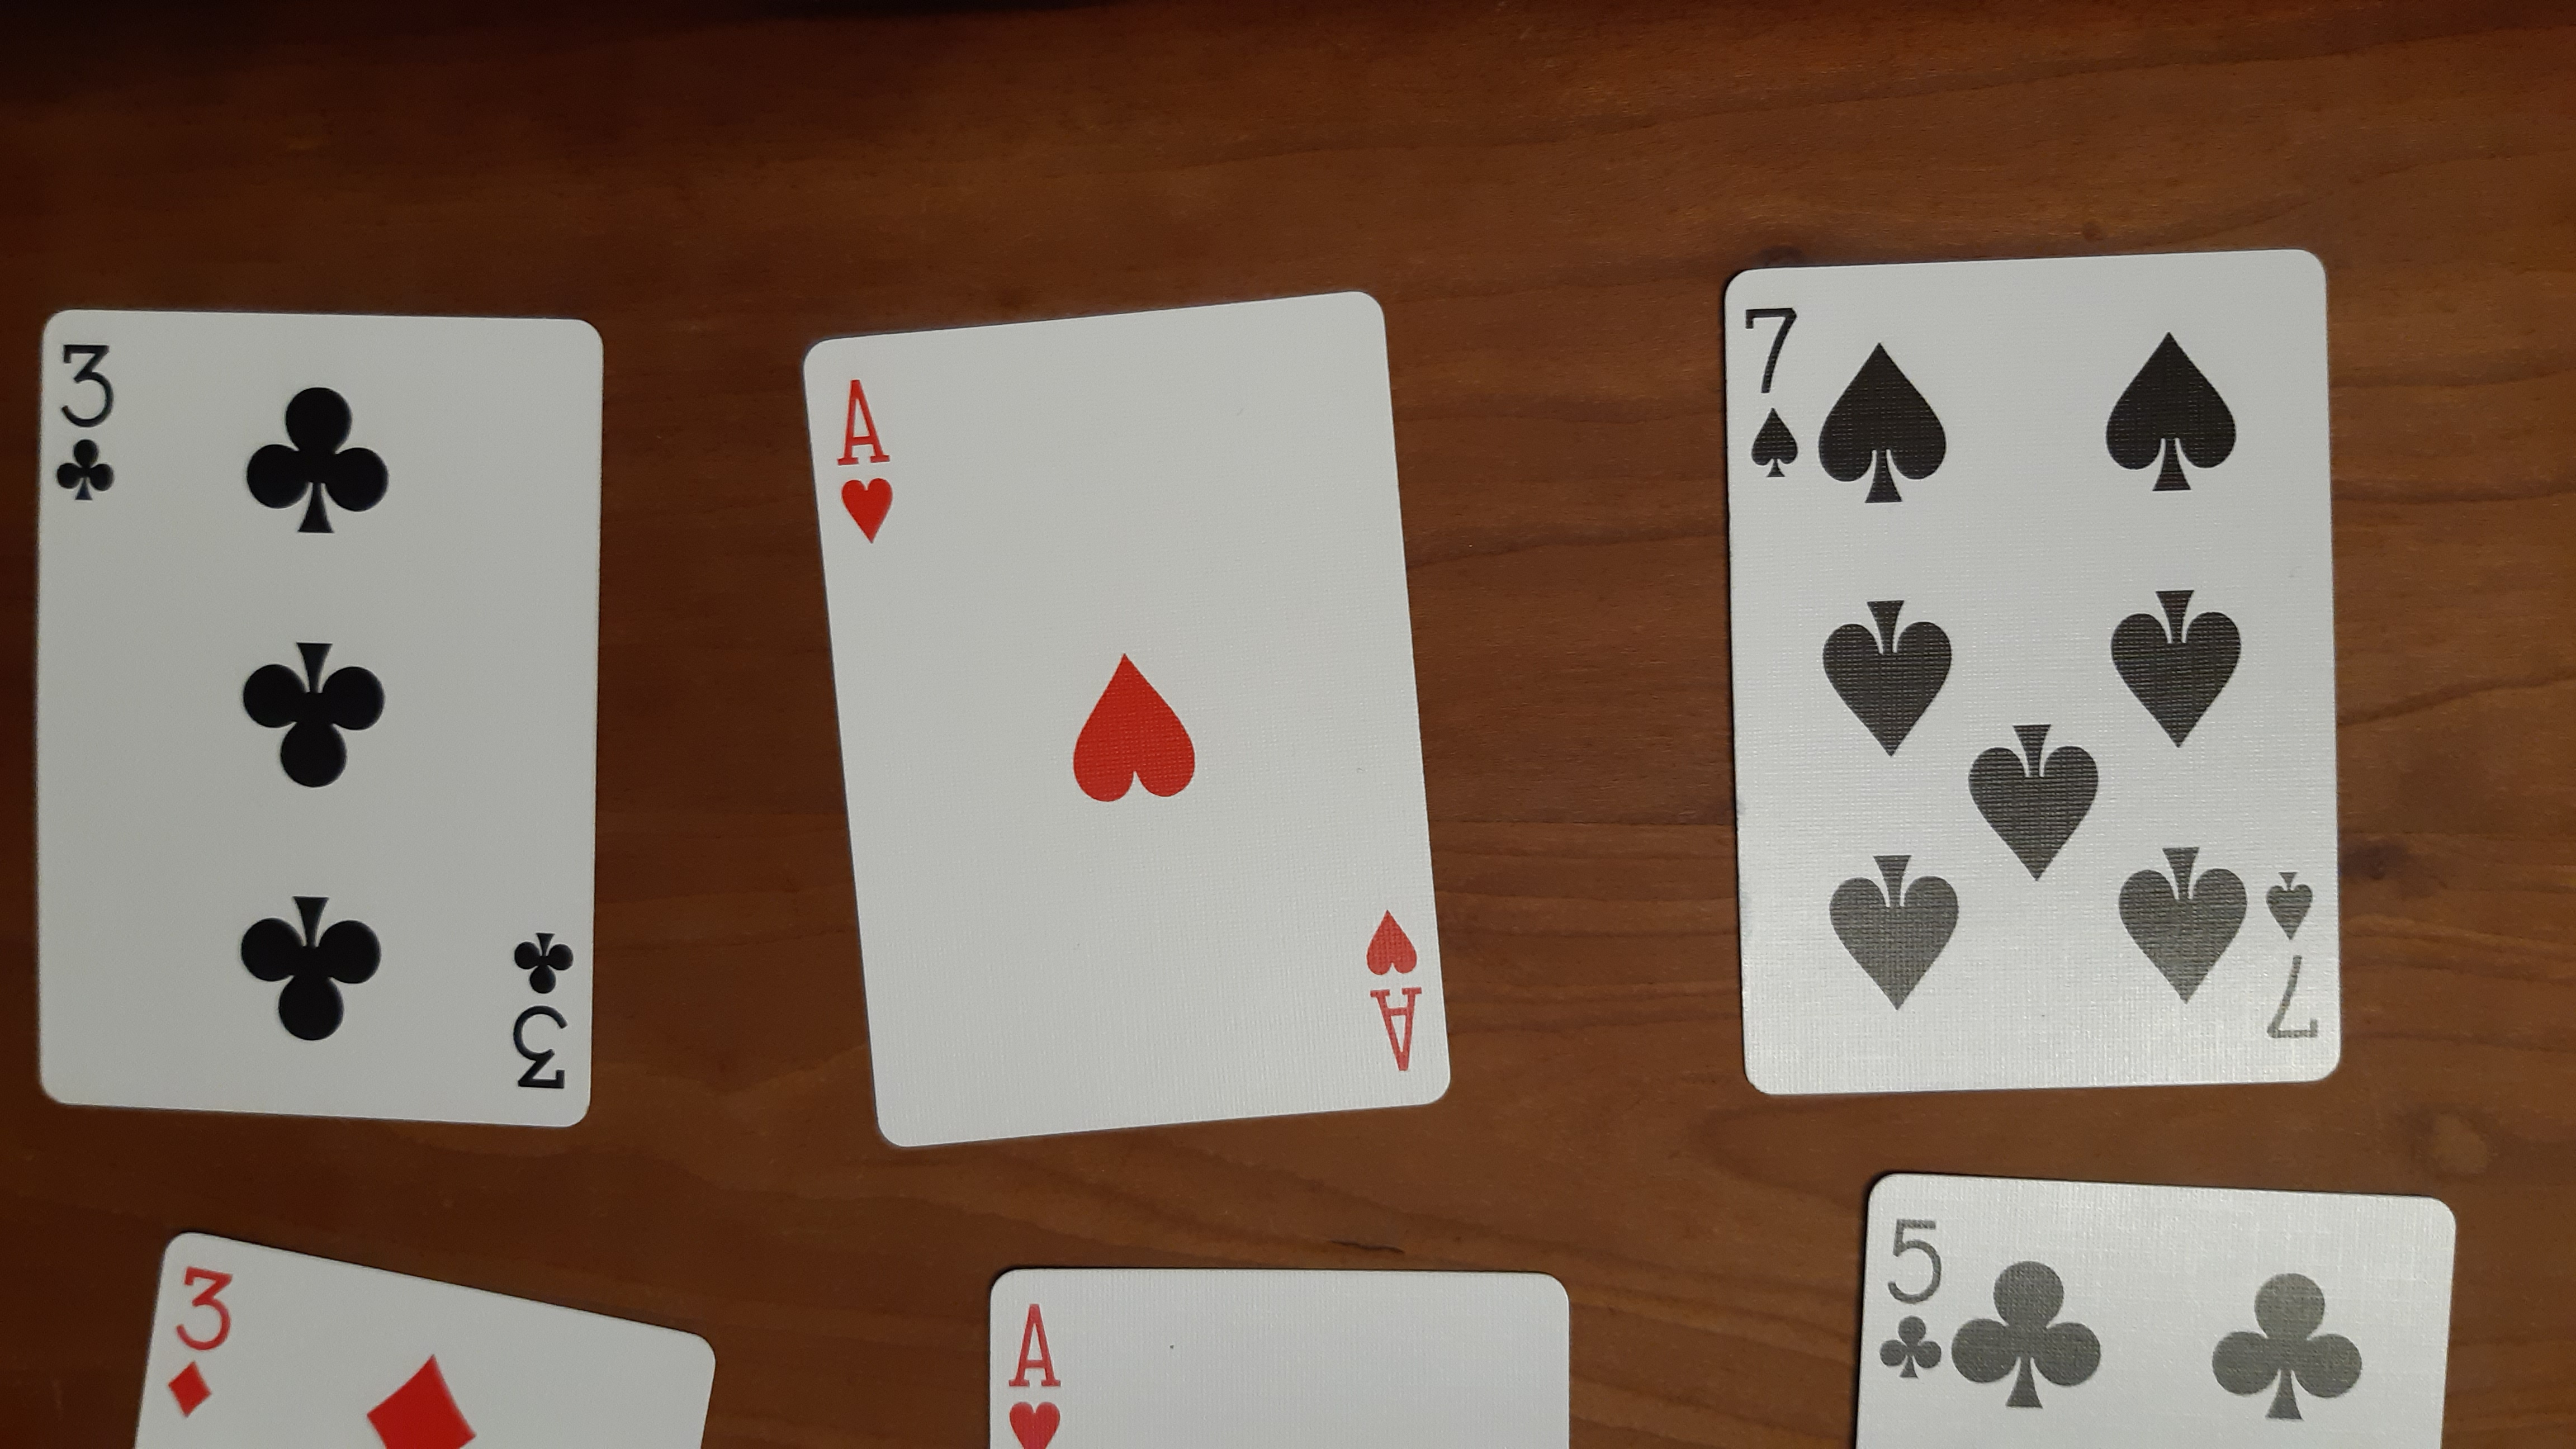Black_Club_3: (499, 929, 589, 1097), (44, 338, 127, 511)
Black_Club_5: (1877, 1214, 1953, 1384)
Black_Spade_7: (1732, 292, 1810, 490), (2258, 855, 2332, 1058)
Red_Diamond_3: (159, 1260, 237, 1421)
Red_Heart_Ace: (1355, 897, 1433, 1077), (998, 1297, 1081, 1445), (832, 372, 901, 548)
